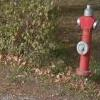a fire hydrant: (76, 4, 97, 80)
